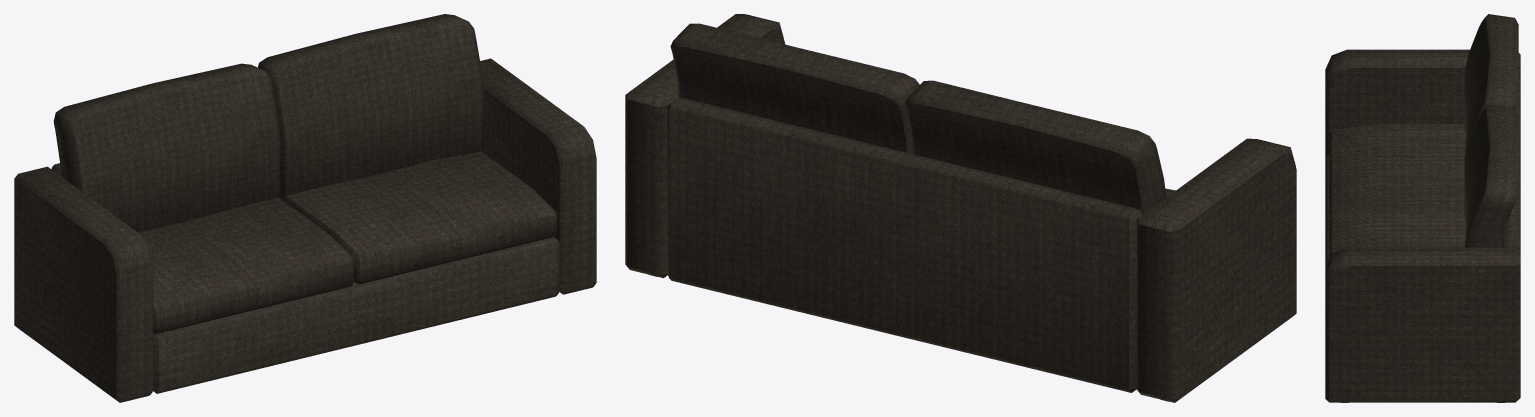
File: sofa_1_3.glb
3 views of the same model, side by side, from view 1: azimuth 30°, elevation 25°; view 2: azimuth 150°, elevation 25°; view 3: azimuth 270°, elevation 25° (orthographic). The views are drawn at different scales.
Parts seen in each view (by area): view 1: sofa_1_3; view 2: sofa_1_3; view 3: sofa_1_3.
Part boxes in pixels (bbox=[...]): sofa_1_3: bbox=[14, 14, 596, 402]; sofa_1_3: bbox=[625, 14, 1296, 402]; sofa_1_3: bbox=[1325, 14, 1520, 402].
Size of the model in its own units: 2.6 by 1.15 by 1.
2 materials, 2 textured.
